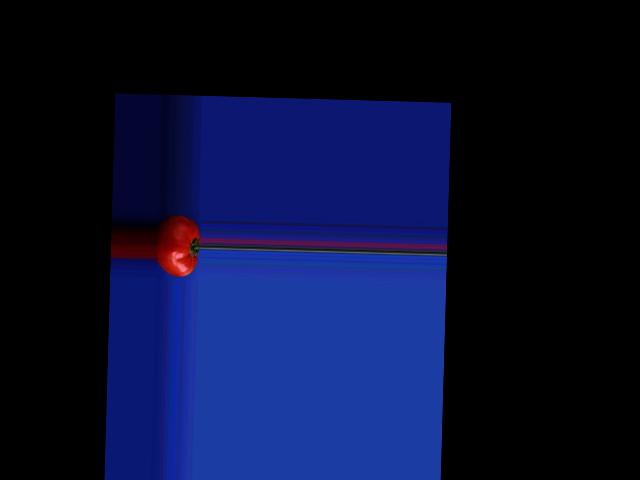tomato: (154, 214, 201, 276)
